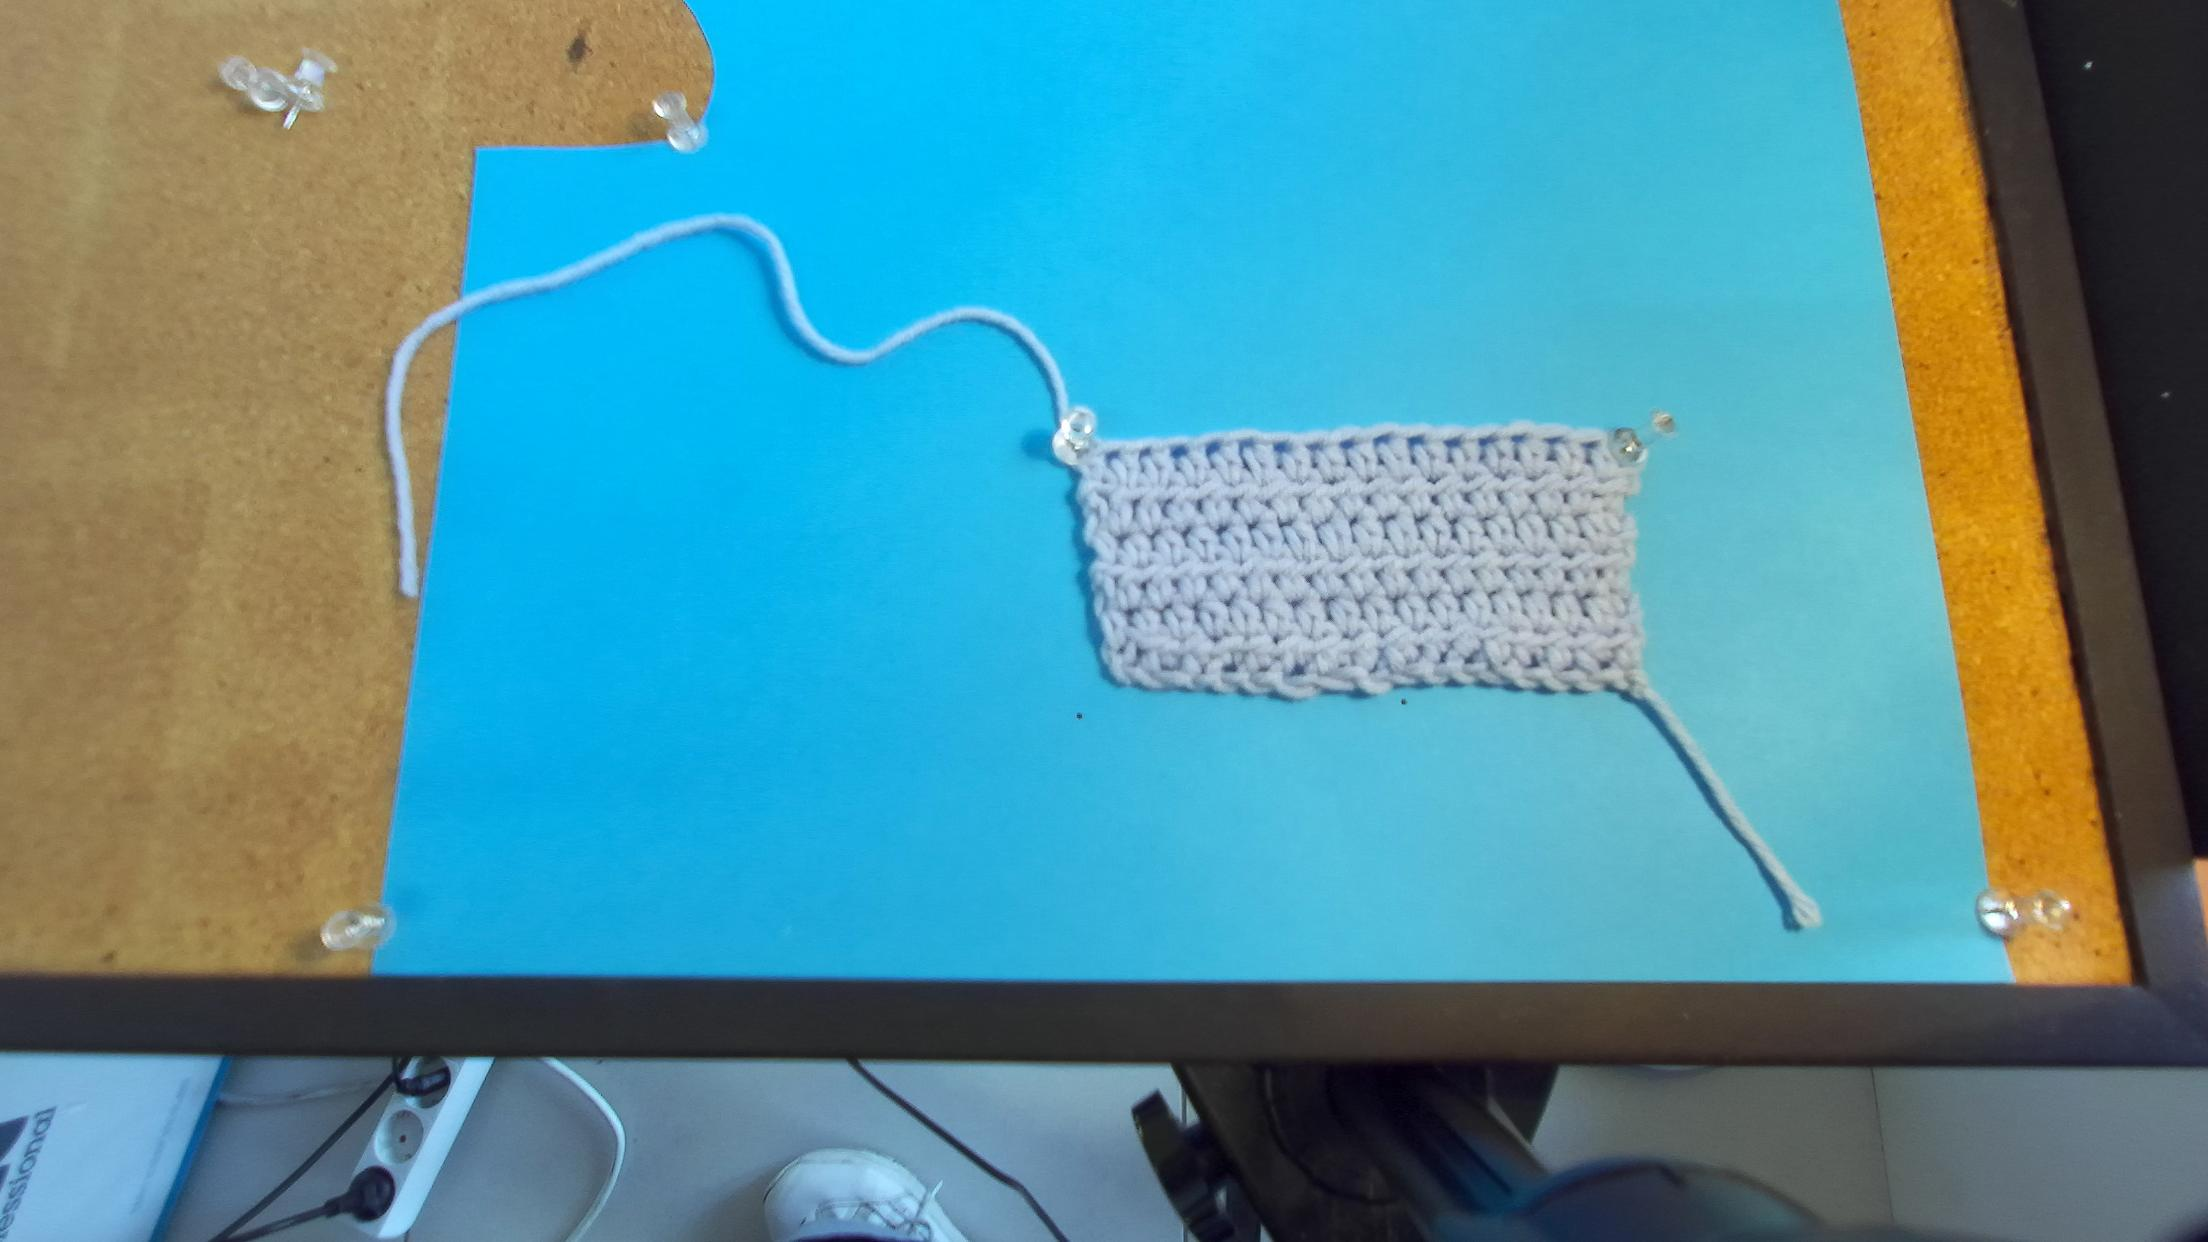hole: (1204, 440, 1222, 458), (1102, 450, 1122, 467), (1169, 444, 1187, 461), (1237, 440, 1257, 455), (1479, 432, 1498, 446), (1274, 441, 1292, 455), (1306, 440, 1324, 453), (1407, 435, 1425, 449), (1542, 437, 1563, 447), (1577, 440, 1598, 450), (1341, 437, 1356, 450), (1372, 435, 1389, 447), (1444, 437, 1462, 447), (1139, 447, 1153, 461), (1510, 434, 1527, 444)
swatch: (1054, 428, 1648, 701)
